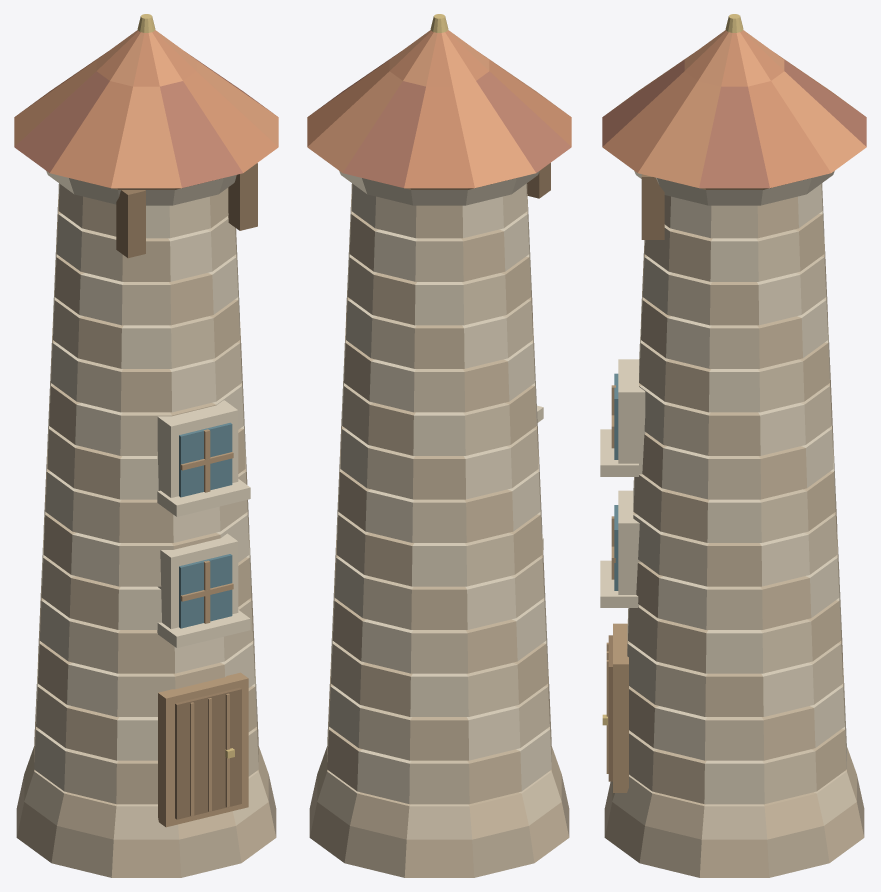
File: StoneWindmill.glb
The picture shows the model from 3 angles, left to right: view 1: azimuth 30°, elevation 25°; view 2: azimuth 150°, elevation 25°; view 3: azimuth 270°, elevation 25°; orthographic projection.
Visible parts, largest first — view 1: StoneWindmill; view 2: StoneWindmill; view 3: StoneWindmill.
Part boxes in pixels (bbox=[...]): StoneWindmill: bbox=[14, 14, 278, 877]; StoneWindmill: bbox=[307, 14, 571, 877]; StoneWindmill: bbox=[600, 14, 866, 877].
Size of the model in its own units: 2.05 by 6.89 by 2.06.
